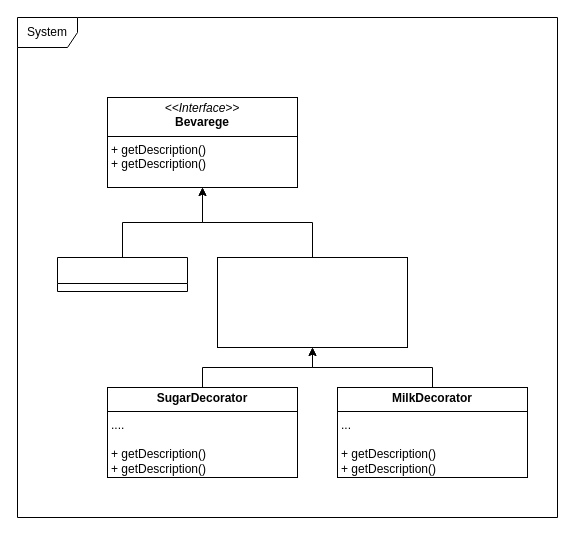
The diagram is 575 pixels wide and 535 high, and some of its shapes have lost their labels. Each missing label, with the box of its shape:
BevaregeDecorator - Beverage bevarege + getDescription() + getDescription(): (216, 256, 408, 348)
Coffe: (56, 256, 188, 292)
